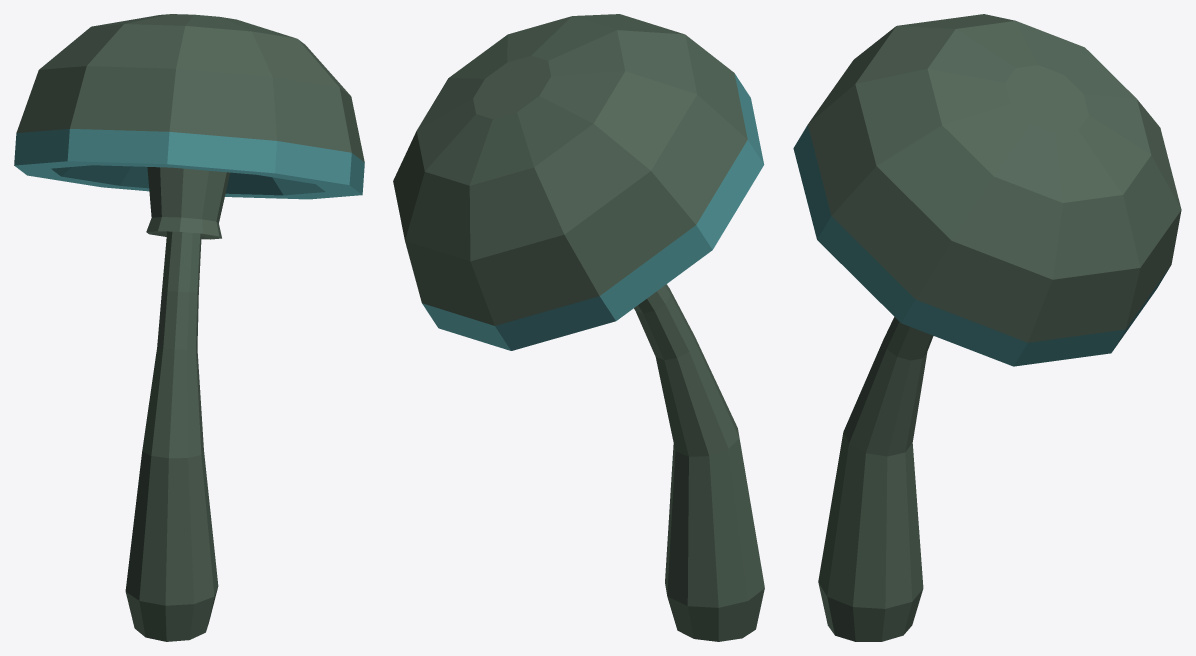
Rendered from Shroom_1.fbx.
3 renders of one model, left to right at view 1: azimuth 30°, elevation 25°; view 2: azimuth 150°, elevation 25°; view 3: azimuth 270°, elevation 25°, orthographic. The views are drawn at different scales.
Parts seen in each view (by area): view 1: Shroom_1; view 2: Shroom_1; view 3: Shroom_1.
Part boxes in pixels (bbox=[...]): Shroom_1: bbox=[14, 14, 364, 641]; Shroom_1: bbox=[393, 14, 764, 641]; Shroom_1: bbox=[793, 14, 1181, 641].
Size of the model in its own units: 0.9705 by 1.77 by 0.994.
